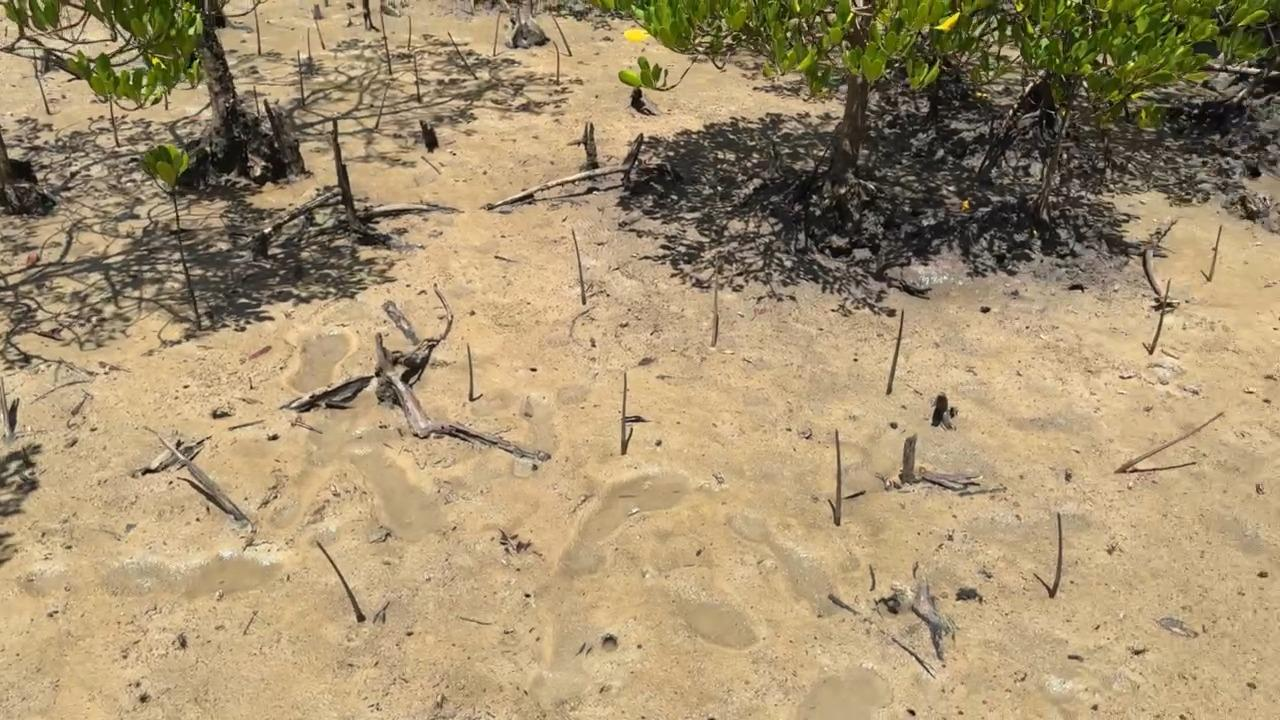Tree: (134, 144, 203, 330), (1114, 412, 1224, 474), (316, 542, 366, 621), (1149, 279, 1173, 356), (886, 309, 905, 393), (448, 33, 478, 79), (572, 229, 587, 304), (1051, 512, 1063, 598), (32, 64, 51, 114), (834, 429, 843, 526), (711, 255, 720, 347), (1208, 224, 1222, 281), (374, 85, 391, 128), (380, 14, 392, 74), (554, 16, 571, 56), (108, 101, 120, 147), (297, 50, 306, 106), (621, 372, 627, 456), (254, 0, 263, 54), (466, 344, 474, 401), (415, 57, 424, 101), (493, 14, 501, 56), (315, 19, 325, 49), (554, 42, 560, 84), (407, 15, 413, 50), (308, 29, 311, 63)
